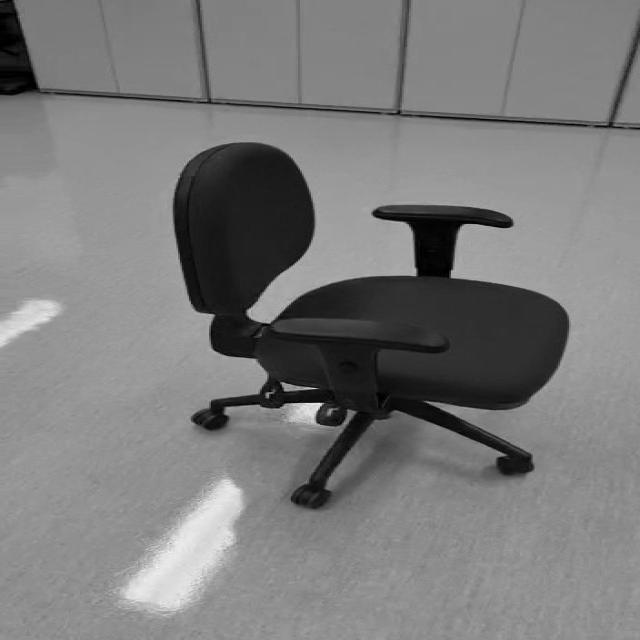chair: (176, 143, 568, 507)
